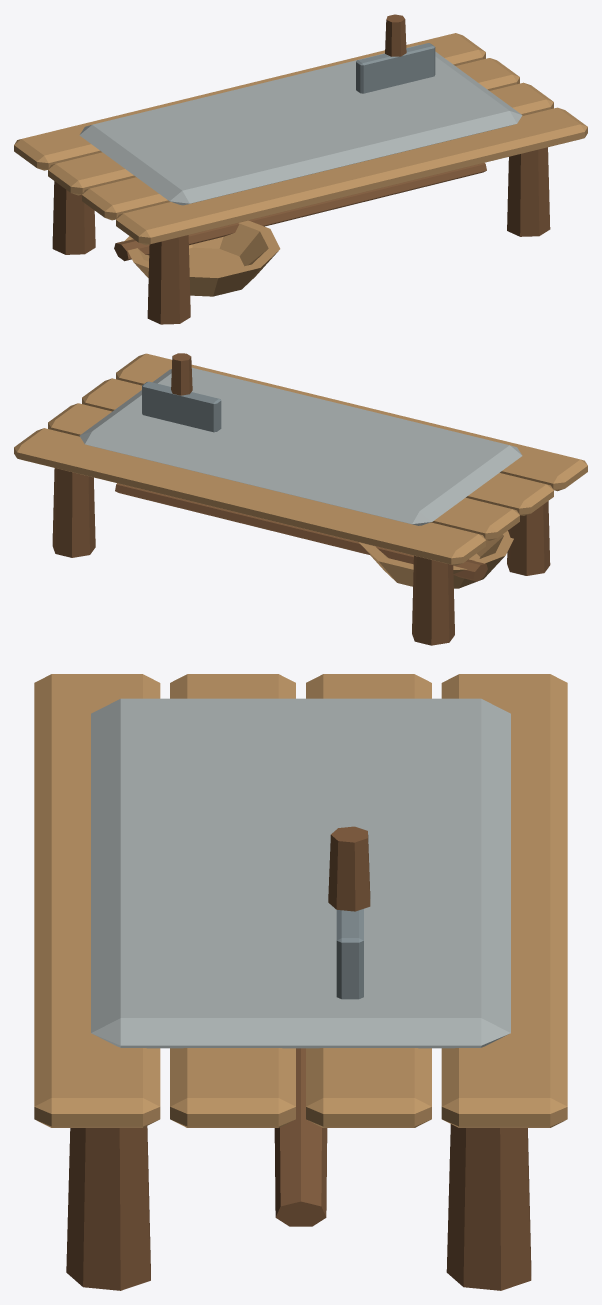
File: CC_ButcherTable.fbx
The picture shows the model from 3 angles, top to bottom: view 1: azimuth 30°, elevation 25°; view 2: azimuth 150°, elevation 25°; view 3: azimuth 270°, elevation 25°; orthographic projection. The views are drawn at different scales.
Parts seen in each view (by area): view 1: Cutting slab, Plank.012, Catch basin, Plank.015, Leg.014, Leg.012, Plank.013, Plank.014, Brace.003, Blade, Leg.013, Handle; view 2: Cutting slab, Plank.015, Plank.012, Leg.015, Leg.013, Brace.003, Plank.014, Plank.013, Blade, Leg.012, Catch basin, Handle; view 3: Cutting slab, Plank.012, Plank.015, Leg.015, Leg.014, Plank.013, Plank.014, Brace.003, Handle, Blade.
Part boxes in pixels (box(x1,y1,x2,y2)): Cutting slab: box(79, 45, 522, 205); Plank.012: box(116, 107, 587, 245); Catch basin: box(124, 220, 280, 296); Plank.015: box(14, 33, 485, 170); Leg.014: box(507, 147, 550, 236); Leg.012: box(147, 235, 190, 324); Plank.013: box(82, 82, 553, 220); Plank.014: box(48, 58, 519, 195); Brace.003: box(114, 163, 486, 261); Blade: box(356, 43, 435, 93); Leg.013: box(52, 181, 95, 254); Handle: box(385, 14, 406, 56); Cutting slab: box(79, 367, 522, 525); Plank.015: box(14, 428, 485, 565); Plank.012: box(116, 353, 587, 491); Leg.015: box(52, 468, 95, 557); Leg.013: box(412, 555, 454, 645); Brace.003: box(115, 483, 487, 581); Plank.014: box(48, 403, 519, 540); Plank.013: box(82, 378, 553, 515); Blade: box(142, 381, 221, 432); Leg.012: box(507, 501, 550, 575); Catch basin: box(359, 531, 513, 588); Handle: box(171, 353, 192, 395); Cutting slab: box(91, 698, 510, 1048); Plank.012: box(34, 674, 160, 1127); Plank.015: box(441, 674, 567, 1127); Leg.015: box(446, 1124, 531, 1290); Leg.014: box(66, 1126, 150, 1290); Plank.013: box(170, 674, 295, 1127); Plank.014: box(306, 674, 431, 1127); Brace.003: box(274, 1048, 327, 1226); Handle: box(328, 826, 370, 911); Blade: box(336, 909, 363, 999).
Bounding box in the file's own units: 3.15 × 1.23 × 1.62.
